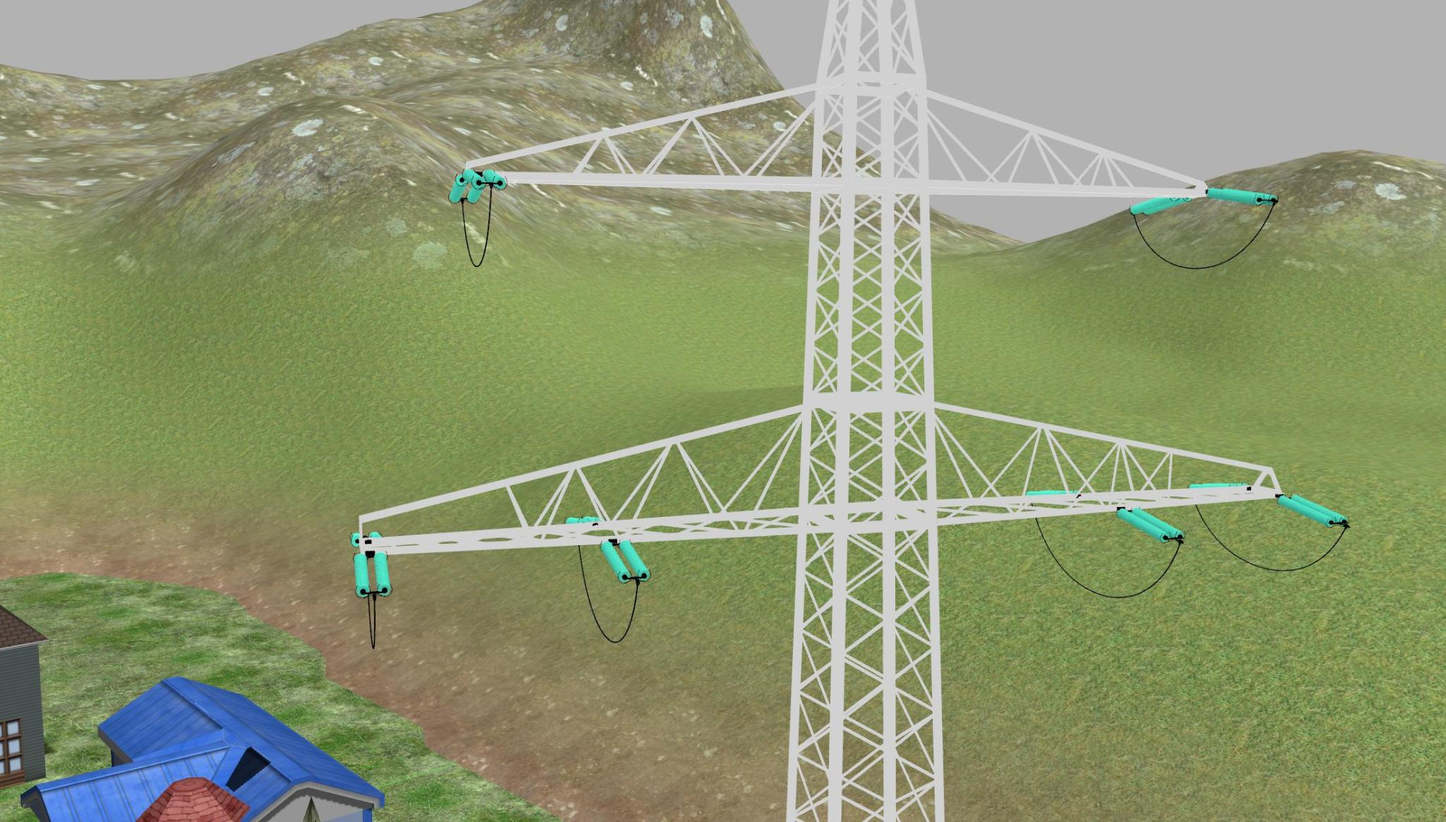tower: (351, 0, 1286, 822)
